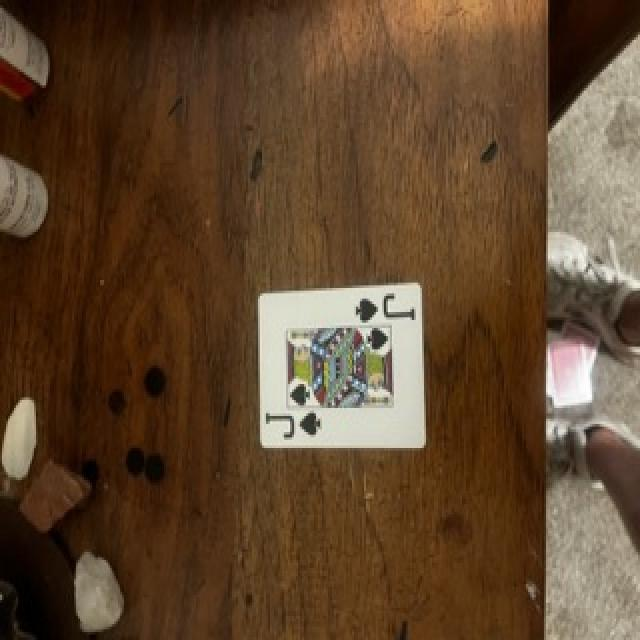Jack of spades: (259, 283, 425, 448)
